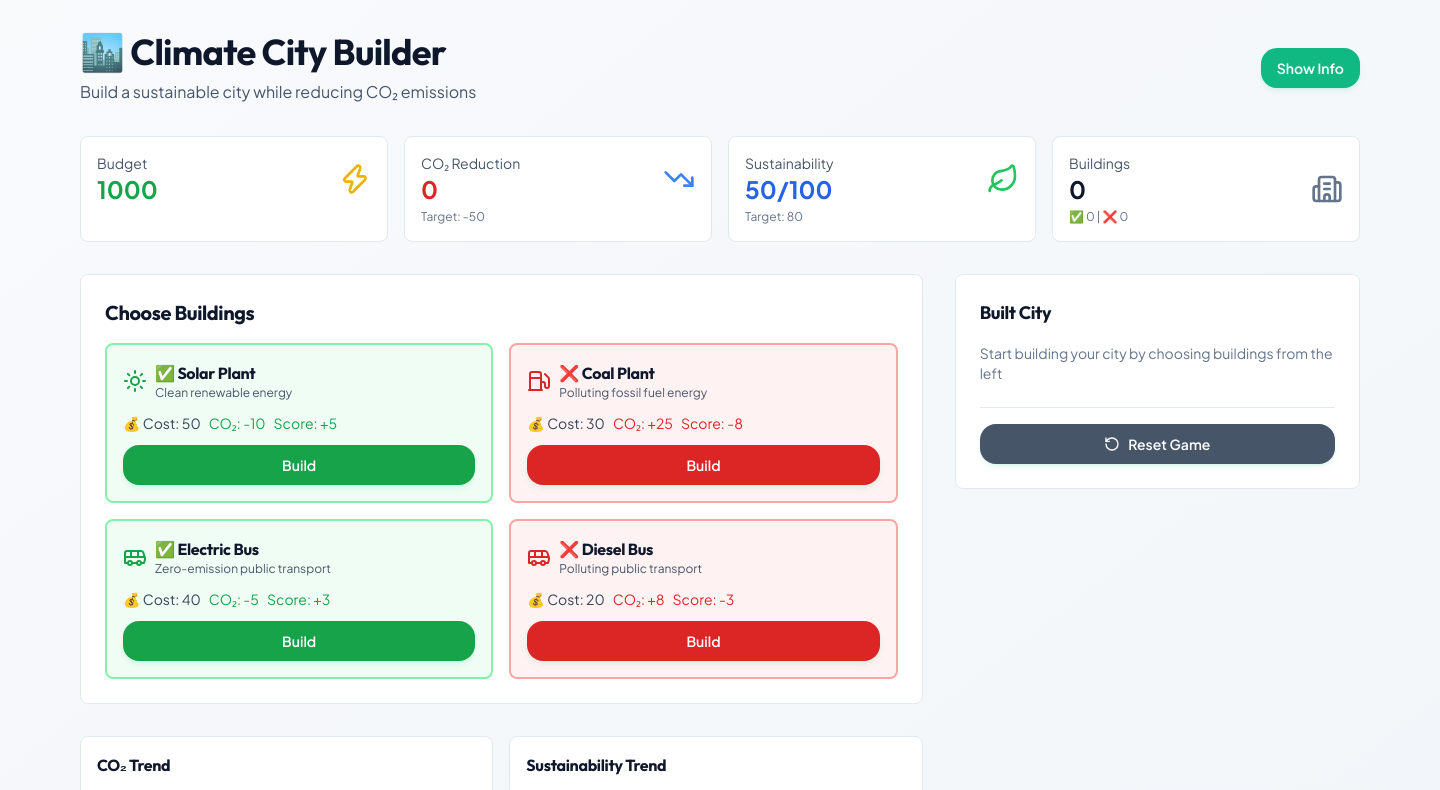
Test: ClimateCityBuilder › allows building a solar plant (good choice)
Click the button "Build" below "-10" at point(299, 465), box [123,445,475,485]
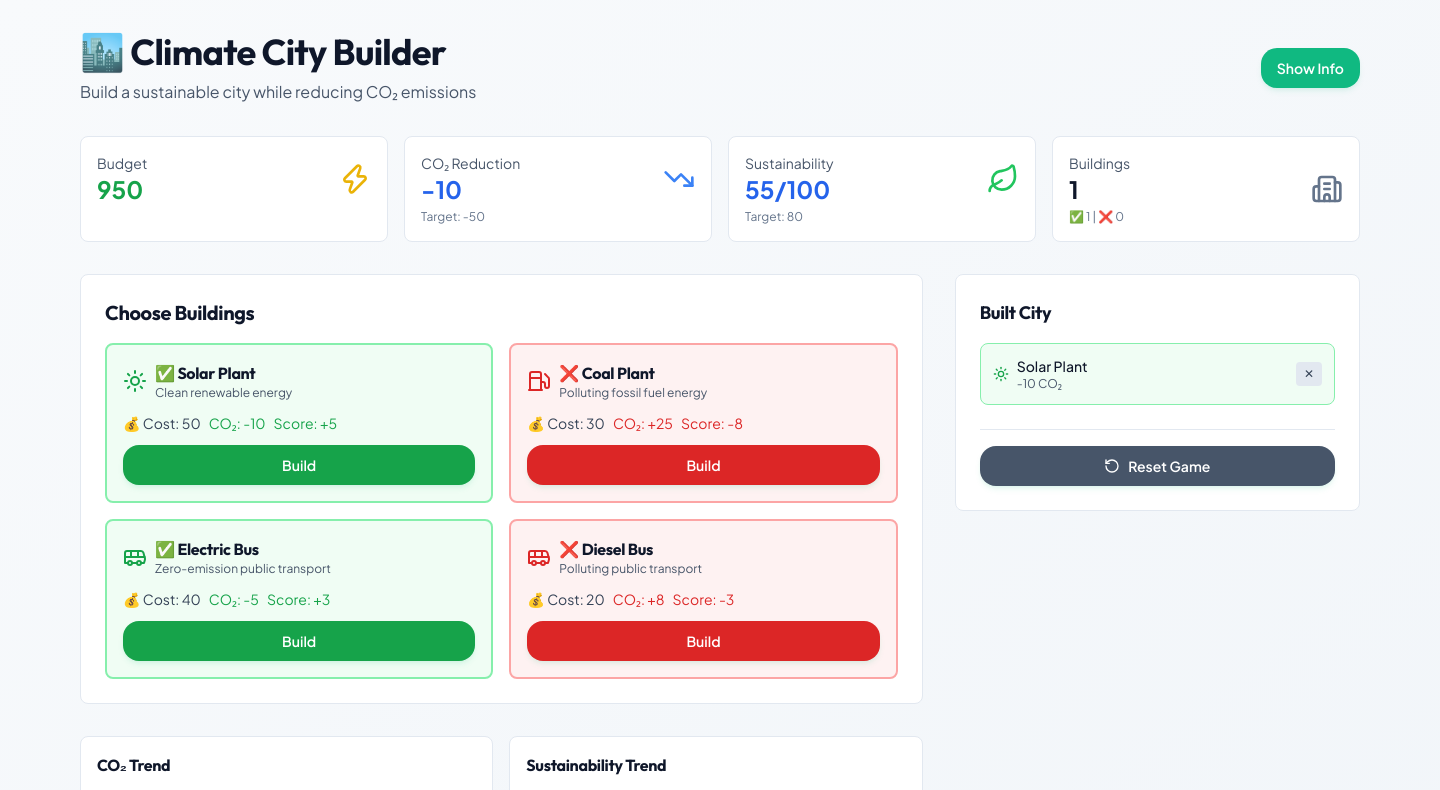
expect the text "950" is shown: met, box [97,173,147,205]
